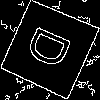D: (24, 24, 81, 75)
